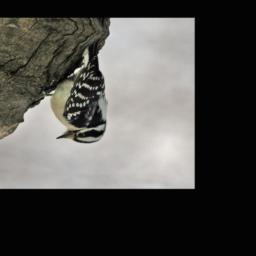Woodpecker: (19, 28, 132, 149)
